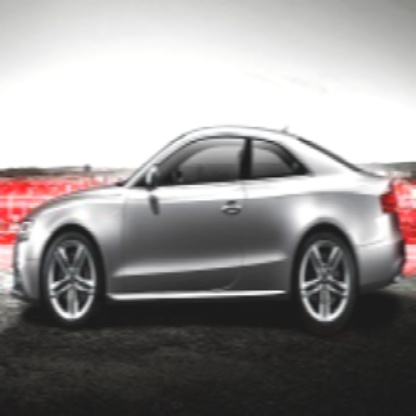Vehicle: (16, 134, 408, 344)
